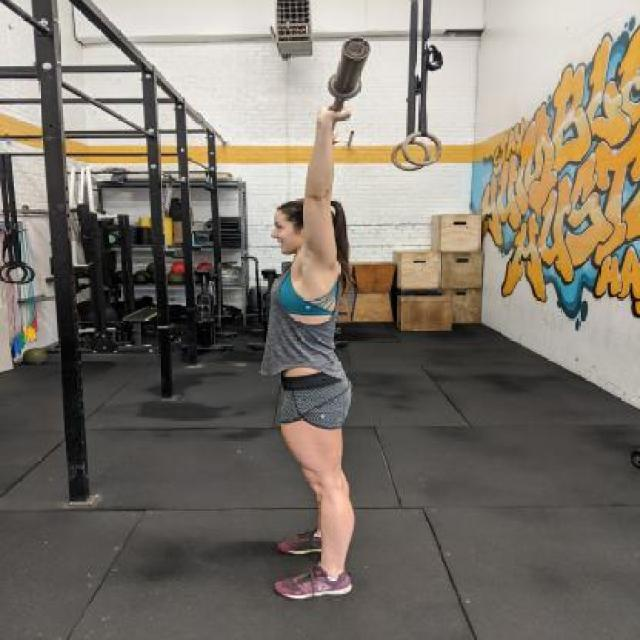Barbell: (340, 32, 374, 63)
